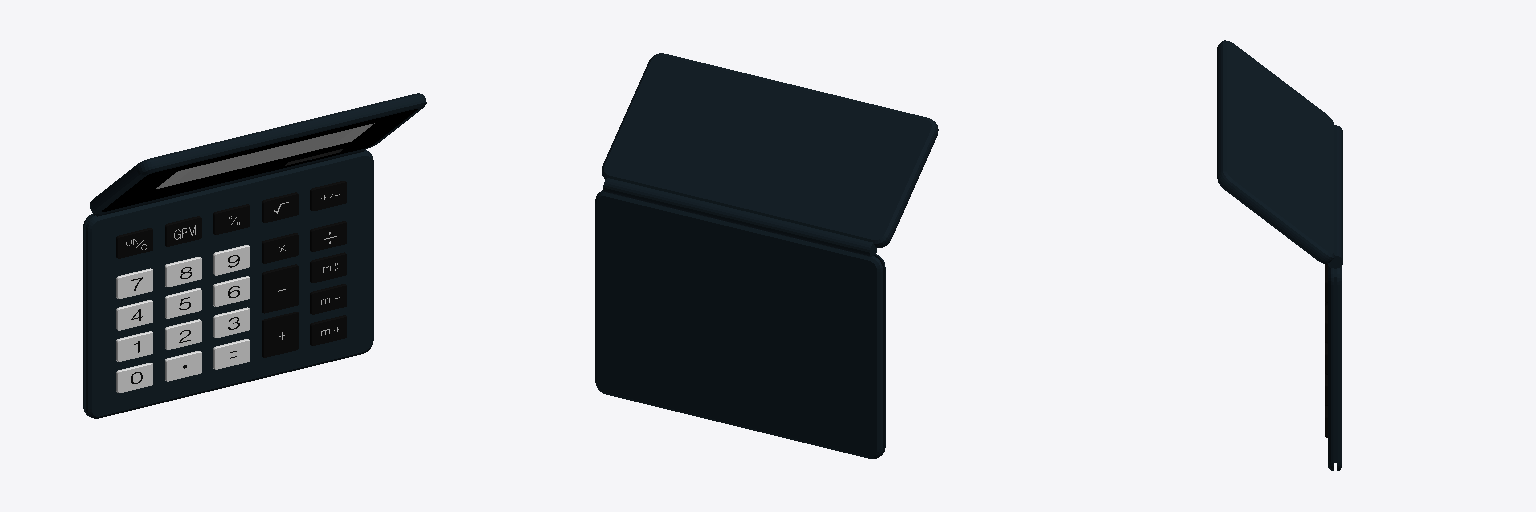
File: calculator.obj
3 views of the same model, side by side, from view 1: azimuth 30°, elevation 25°; view 2: azimuth 150°, elevation 25°; view 3: azimuth 270°, elevation 25° (orthographic).
Parts seen in each view (by area): view 1: calculato_calculato_Geometry_0, calculato_calculato_Geometry_4, calculato_calculato_Geometry_3, calculato_calculato_Geometry_5, calculato_calculato_Geometry_1, calculato_calculato_Geometry_2; view 2: calculato_calculato_Geometry_0; view 3: calculato_calculato_Geometry_0.
Part boxes in pixels (left/top/right/bottom): calculato_calculato_Geometry_0: left=83, top=93, right=426, bottom=418; calculato_calculato_Geometry_4: left=116, top=181, right=346, bottom=383; calculato_calculato_Geometry_3: left=116, top=194, right=339, bottom=392; calculato_calculato_Geometry_5: left=102, top=109, right=417, bottom=211; calculato_calculato_Geometry_1: left=174, top=129, right=353, bottom=183; calculato_calculato_Geometry_2: left=156, top=123, right=374, bottom=188; calculato_calculato_Geometry_0: left=595, top=53, right=938, bottom=458; calculato_calculato_Geometry_0: left=1217, top=40, right=1342, bottom=470.
Size of the model in its own units: 7.63 by 7.58 by 2.89.